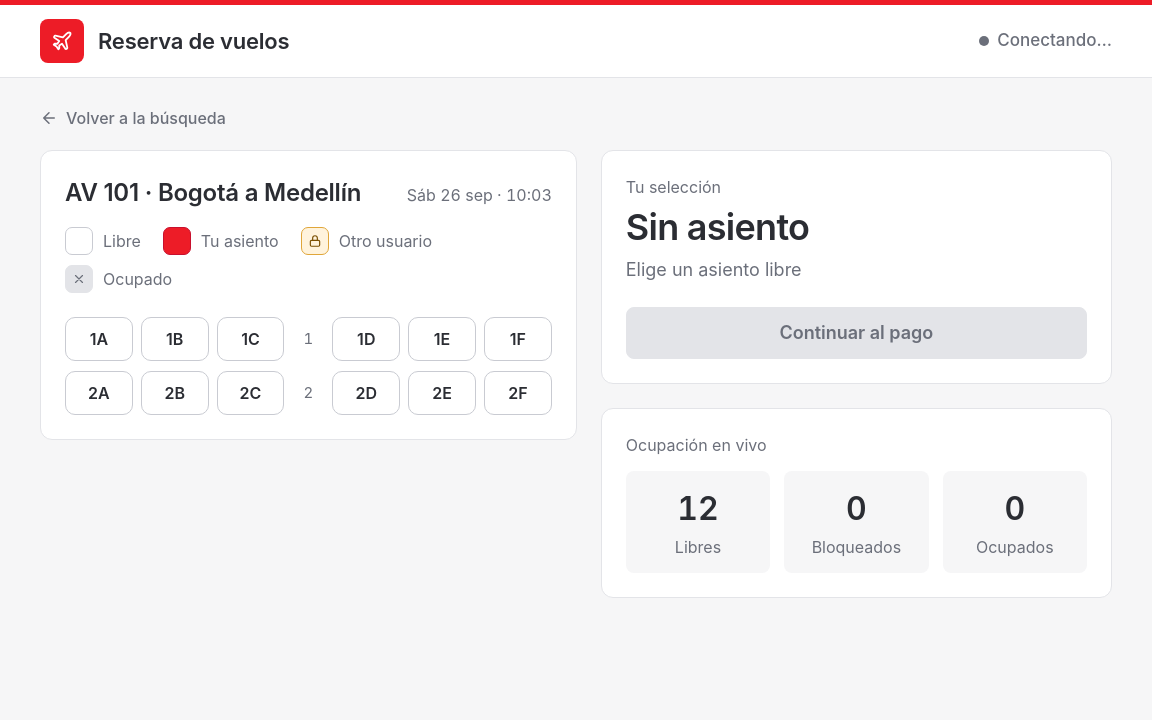
SeatMapPage: selecting a seat › locks the pressed seat and shows it as mine, with its price and a countdown
expect the heading "AV 101 · Bogotá a Medellín" is shown: met, box 65,175 -> 361,211
Click the button "1A".
click(99, 339)  # box 65,317 -> 133,361
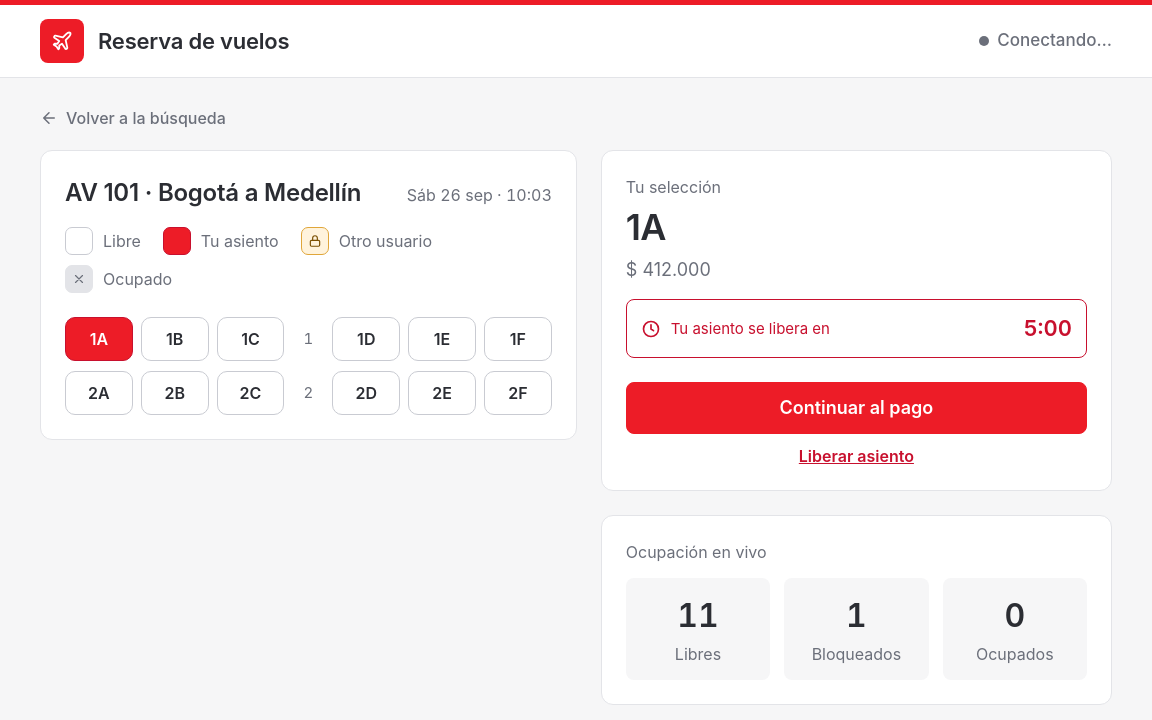
expect the text "1A" is shown: met, box 626,205 -> 666,249
expect the text "$ 412.000" is shown: met, box 626,259 -> 711,280
expect the text "Tu asiento se libera en" is shown: met, box 671,319 -> 830,338
